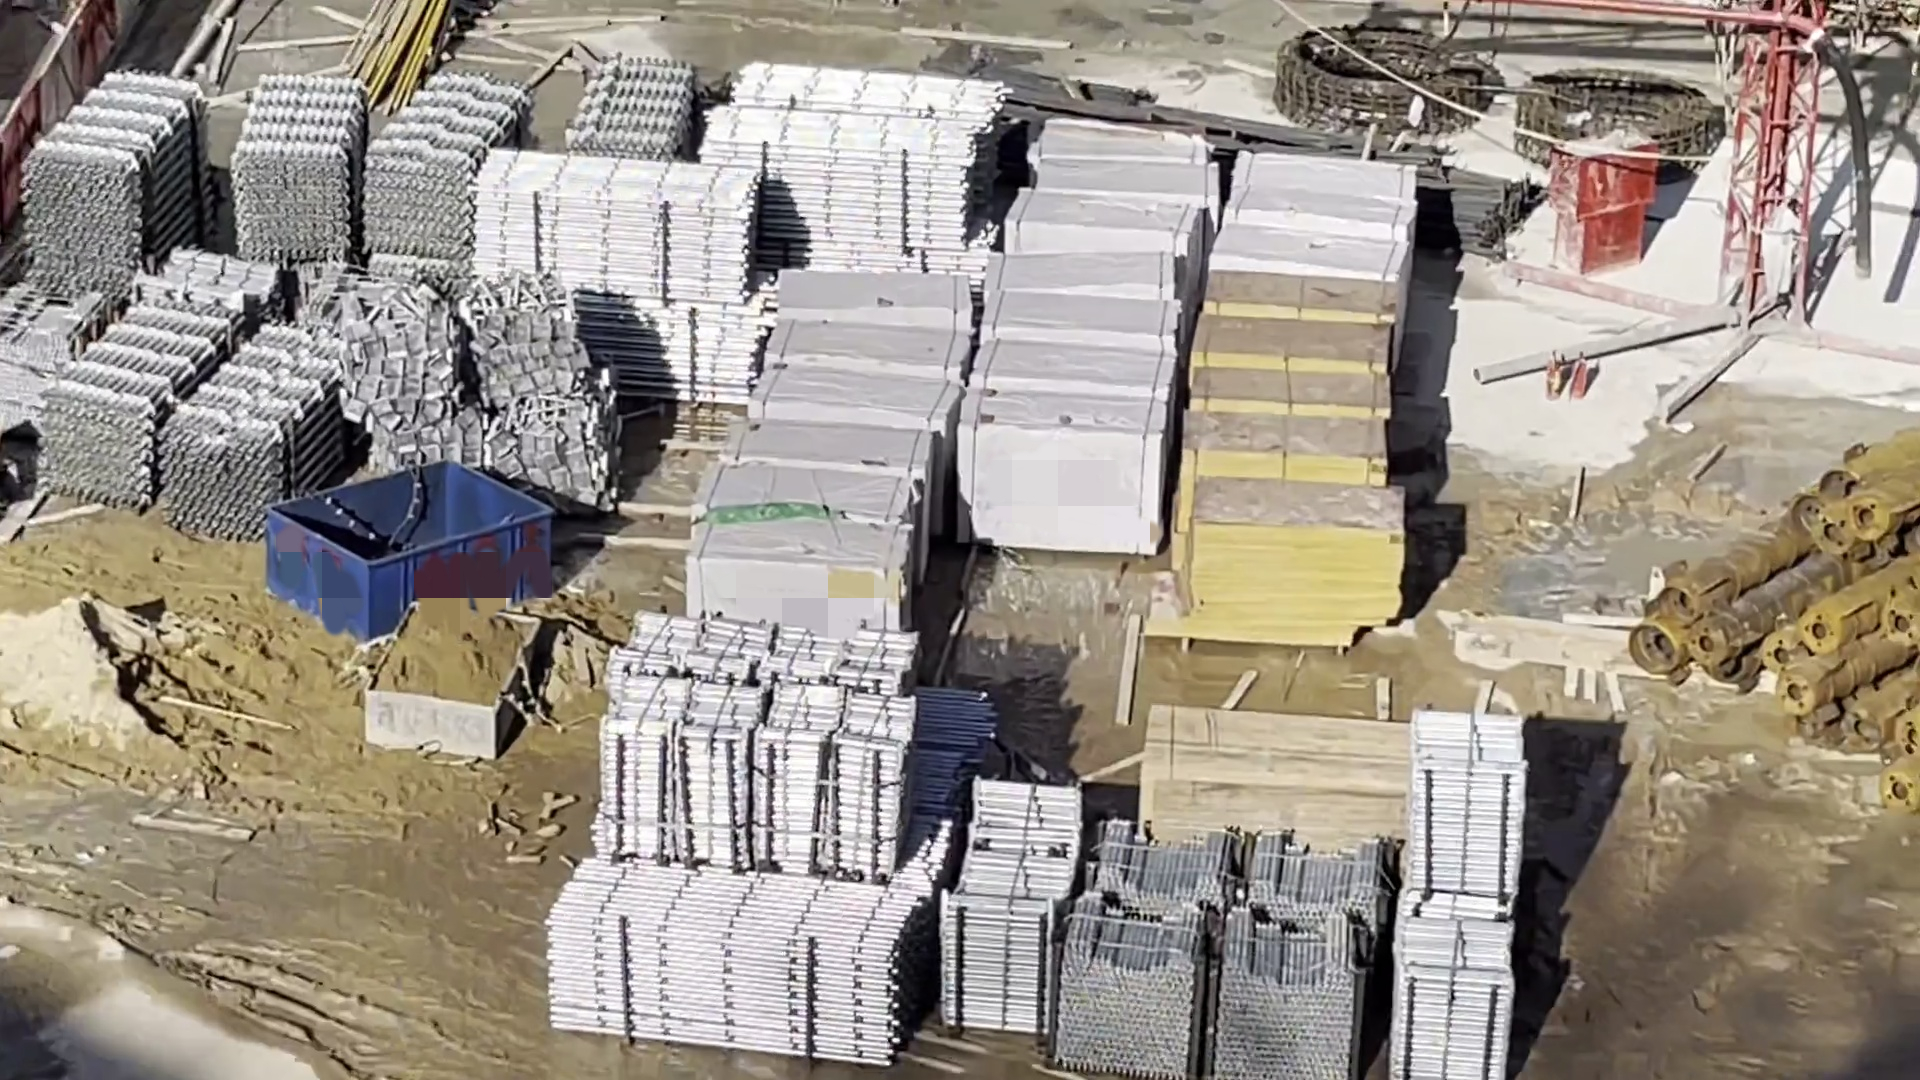board: (1189, 481, 1462, 682), (1196, 351, 1399, 454), (1185, 313, 1406, 404), (1188, 411, 1396, 496), (1218, 280, 1403, 369)
fence: (16, 1, 111, 231)
hopper: (280, 456, 546, 632)
rebar: (1611, 357, 1920, 799), (973, 82, 1251, 128), (1447, 166, 1519, 249)
scaffold: (646, 632, 884, 827), (752, 55, 982, 256), (582, 884, 862, 1047), (1418, 694, 1534, 1080), (1207, 825, 1375, 1080), (171, 305, 351, 527), (63, 276, 247, 491), (951, 786, 1096, 1042), (513, 161, 754, 311), (376, 87, 553, 291), (1089, 829, 1192, 1080), (204, 86, 376, 231), (61, 98, 198, 247), (584, 284, 738, 401), (582, 51, 719, 174)
wood: (1106, 698, 1423, 825)
